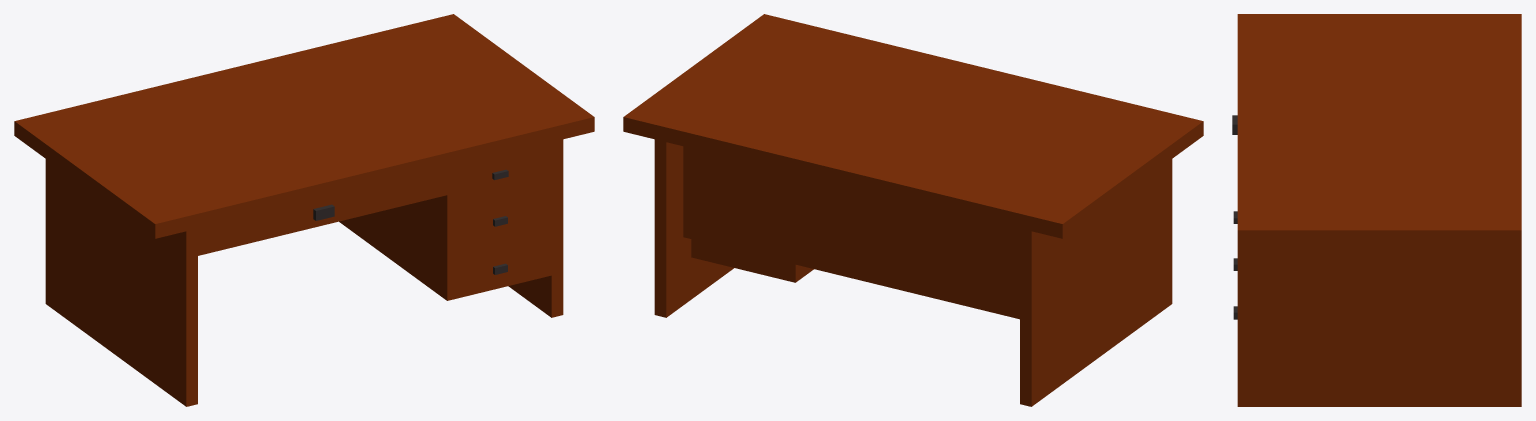
File: Table.fbx
3 views of the same model, side by side, from view 1: azimuth 30°, elevation 25°; view 2: azimuth 150°, elevation 25°; view 3: azimuth 270°, elevation 25° (orthographic).
Visible parts, largest first — view 1: pCube1; view 2: pCube1; view 3: pCube1.
Part boxes in pixels (x1,y1,x2,y2): pCube1: [14, 14, 594, 406]; pCube1: [623, 14, 1203, 406]; pCube1: [1232, 14, 1521, 406].
Bounding box in the file's own units: 11.38 × 4.71 × 6.44.
